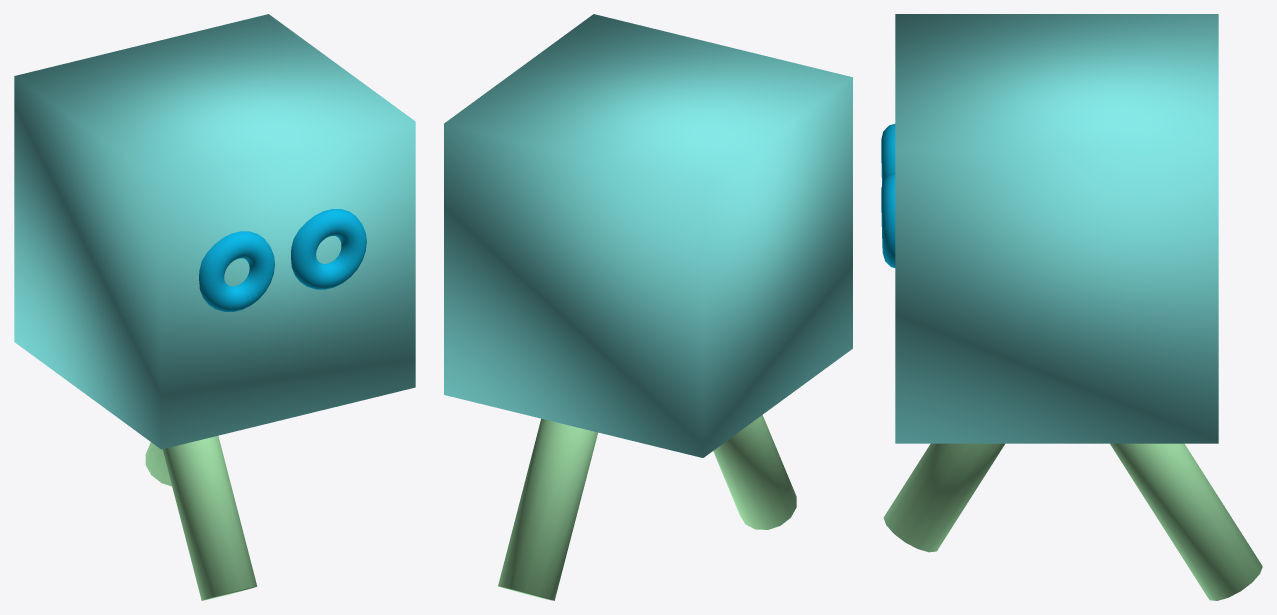
File: dirkSimple.glb
3 renders of one model, left to right at view 1: azimuth 30°, elevation 25°; view 2: azimuth 150°, elevation 25°; view 3: azimuth 270°, elevation 25°, orthographic. The views are drawn at different scales.
Parts seen in each view (by area): view 1: body, L leg, Donut L, Donut R, R leg; view 2: body, R leg, L leg; view 3: body, R leg, L leg, Donut R, Donut L.
Boxes of the visible parts, x1,y1,x2,y2 form: body: (14,14,415,449); L leg: (162,436,257,600); Donut L: (199,231,274,311); Donut R: (291,209,366,289); R leg: (145,442,171,486); body: (444,14,852,457); R leg: (498,418,597,600); L leg: (713,415,796,529); body: (895,14,1218,443); R leg: (1110,443,1262,600); L leg: (883,443,1004,552); Donut R: (881,173,895,267); Donut L: (881,124,895,184).
Size of the model in its own units: 2 by 3.36 by 2.36.
